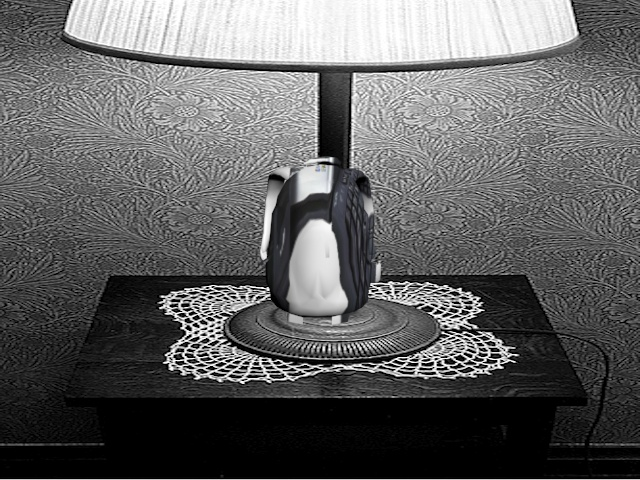back_pack: (257, 147, 384, 328)
